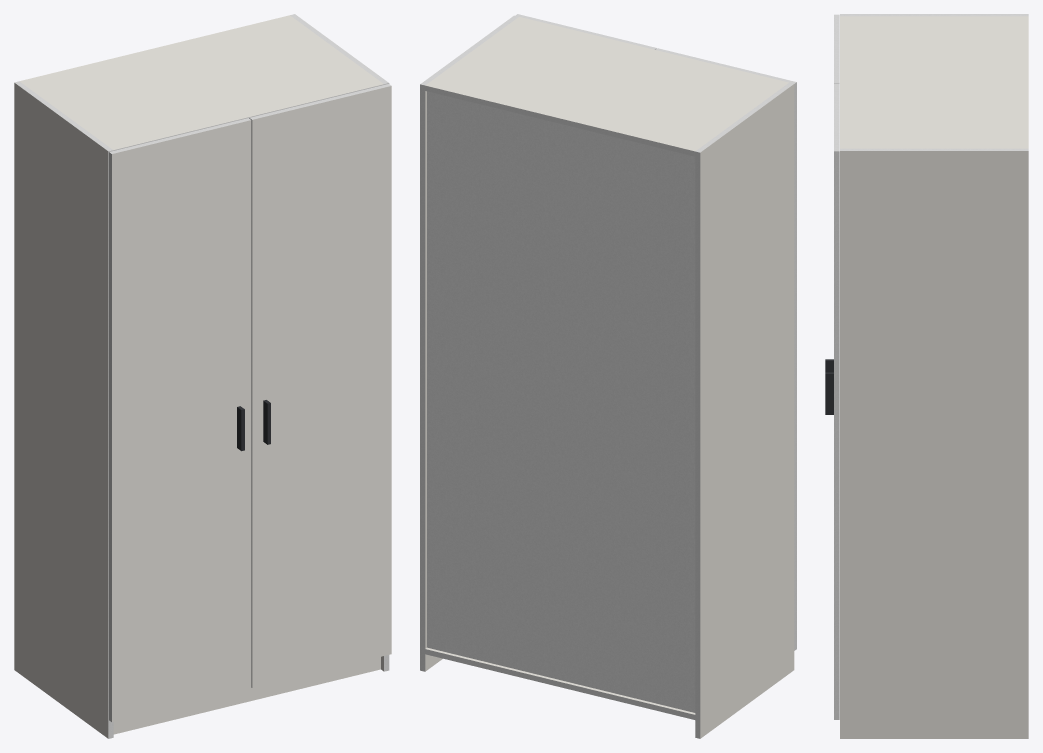
File: LIT-WRD-single.glb
3 renders of one model, left to right at view 1: azimuth 30°, elevation 25°; view 2: azimuth 150°, elevation 25°; view 3: azimuth 270°, elevation 25°, orthographic.
Visible parts, largest first — view 1: door-r:pbr, door-l:pbr, side-l:pbr, top:pbr, plinth:pbr, door-l:sheet:eyJtIjoibWRmIiwic2lkZSI6ImVkZ2UtbG9uZyIsInNlZWQ, door-r:sheet:eyJtIjoibWRmIiwic2lkZSI6ImVkZ2UtbG9uZyIsInNlZWQ, pull, side-l:sheet:eyJtIjoibWRmIiwic2lkZSI6ImVkZ2UtbG9uZyIsInNlZWQ; view 2: back:sheet:eyJtIjoibWRmIiwic2lkZSI6ImZhY2UiLCJzZWVkIjoxLCJ0a, side-l:pbr, top:pbr, side-l:sheet:eyJtIjoibWRmIiwic2lkZSI6ImVkZ2UtbG9uZyIsInNlZWQ, side-r:sheet:eyJtIjoibWRmIiwic2lkZSI6ImVkZ2UtbG9uZyIsInNlZWQ, door-l:sheet:eyJtIjoibWRmIiwic2lkZSI6ImVkZ2UtbG9uZyIsInNlZWQ, bottom:sheet:eyJtIjoibWRmIiwic2lkZSI6ImVkZ2UtbG9uZyIsInNlZWQ, top:sheet:eyJtIjoibWRmIiwic2lkZSI6ImVkZ2UtbG9uZyIsInNlZWQiOj, side-r:pbr, bottom:pbr; view 3: side-r:pbr, top:pbr, door-r:sheet:eyJtIjoibWRmIiwic2lkZSI6ImVkZ2UtbG9uZyIsInNlZWQ, side-l:sheet:eyJtIjoibWRmIiwic2lkZSI6ImVkZ2UtZW5kIiwic2VlZCI, side-r:sheet:eyJtIjoibWRmIiwic2lkZSI6ImVkZ2UtZW5kIiwic2VlZCI, pull, door-l:sheet:eyJtIjoibWRmIiwic2lkZSI6ImVkZ2UtZW5kIiwic2VlZCI, door-r:sheet:eyJtIjoibWRmIiwic2lkZSI6ImVkZ2UtZW5kIiwic2VlZCI.
Boxes of the visible parts, x1,y1,x2,y2 form: door-r:pbr: [252, 86, 391, 687]; door-l:pbr: [112, 120, 251, 722]; side-l:pbr: [14, 83, 108, 738]; top:pbr: [19, 15, 383, 150]; plinth:pbr: [113, 657, 380, 734]; door-l:sheet:eyJtIjoibWRmIiwic2lkZSI6ImVkZ2UtbG9uZyIsInNlZWQ: [109, 152, 111, 721]; door-r:sheet:eyJtIjoibWRmIiwic2lkZSI6ImVkZ2UtbG9uZyIsInNlZWQ: [249, 118, 252, 687]; pull: [237, 400, 270, 451]; side-l:sheet:eyJtIjoibWRmIiwic2lkZSI6ImVkZ2UtbG9uZyIsInNlZWQ: [108, 150, 113, 738]; back:sheet:eyJtIjoibWRmIiwic2lkZSI6ImZhY2UiLCJzZWVkIjoxLCJ0a: [427, 91, 695, 712]; side-l:pbr: [700, 84, 794, 738]; top:pbr: [425, 16, 788, 151]; side-l:sheet:eyJtIjoibWRmIiwic2lkZSI6ImVkZ2UtbG9uZyIsInNlZWQ: [695, 151, 700, 738]; side-r:sheet:eyJtIjoibWRmIiwic2lkZSI6ImVkZ2UtbG9uZyIsInNlZWQ: [420, 84, 425, 671]; door-l:sheet:eyJtIjoibWRmIiwic2lkZSI6ImVkZ2UtbG9uZyIsInNlZWQ: [794, 82, 796, 650]; bottom:sheet:eyJtIjoibWRmIiwic2lkZSI6ImVkZ2UtbG9uZyIsInNlZWQ: [425, 649, 695, 719]; top:sheet:eyJtIjoibWRmIiwic2lkZSI6ImVkZ2UtbG9uZyIsInNlZWQiOj: [425, 85, 695, 156]; side-r:pbr: [425, 91, 442, 671]; bottom:pbr: [425, 647, 695, 714]; side-r:pbr: [840, 151, 1028, 738]; top:pbr: [840, 16, 1028, 148]; door-r:sheet:eyJtIjoibWRmIiwic2lkZSI6ImVkZ2UtbG9uZyIsInNlZWQ: [834, 151, 839, 719]; side-l:sheet:eyJtIjoibWRmIiwic2lkZSI6ImVkZ2UtZW5kIiwic2VlZCI: [840, 14, 1028, 16]; side-r:sheet:eyJtIjoibWRmIiwic2lkZSI6ImVkZ2UtZW5kIiwic2VlZCI: [840, 148, 1028, 150]; pull: [825, 359, 833, 414]; door-l:sheet:eyJtIjoibWRmIiwic2lkZSI6ImVkZ2UtZW5kIiwic2VlZCI: [834, 14, 839, 82]; door-r:sheet:eyJtIjoibWRmIiwic2lkZSI6ImVkZ2UtZW5kIiwic2VlZCI: [834, 83, 839, 151].
Bounding box in the file's own units: 1 × 2 × 0.6271.
Materials: 34 (23 with a texture image).
